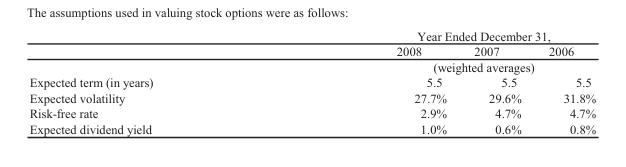table: (28, 28, 595, 135)
table column: (28, 28, 274, 135), (274, 28, 459, 135), (459, 28, 534, 135), (534, 28, 595, 135)
table column header: (28, 28, 595, 74)
table row: (28, 58, 595, 74), (28, 89, 595, 105), (28, 28, 595, 43), (28, 43, 595, 58), (28, 74, 595, 89), (28, 105, 595, 120), (28, 120, 595, 135)
table spanning cell: (274, 58, 595, 74), (274, 28, 595, 43)
